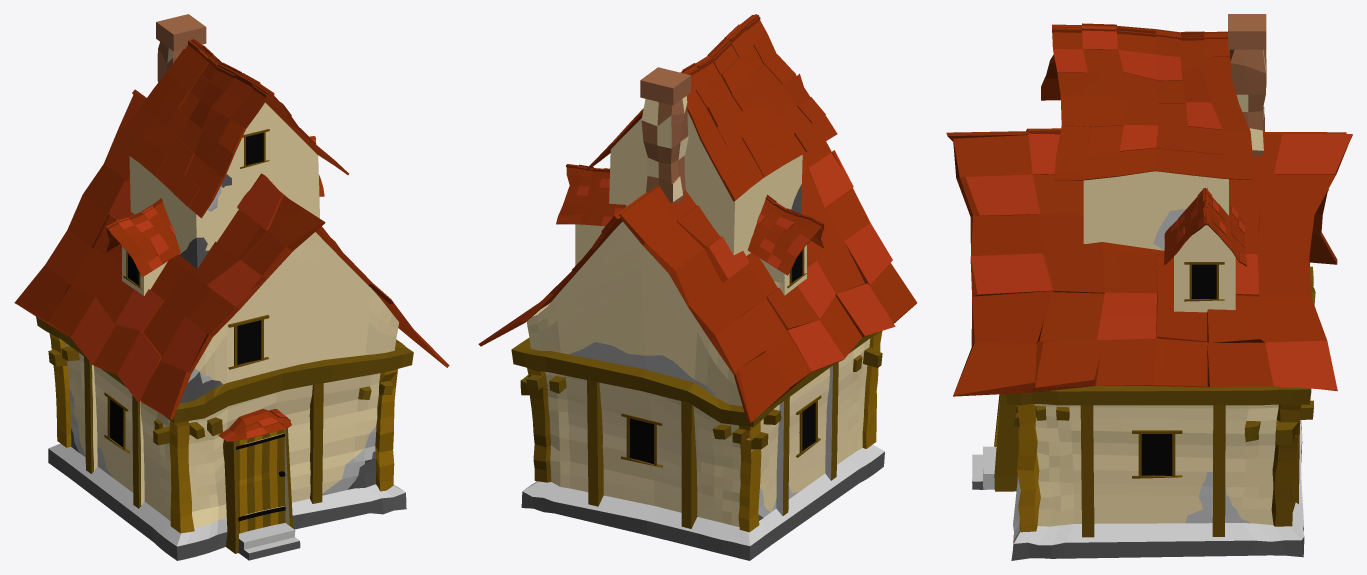
Rendered from red_cottage_bg.glb.
The picture shows the model from 3 angles, left to right: view 1: azimuth 30°, elevation 25°; view 2: azimuth 150°, elevation 25°; view 3: azimuth 270°, elevation 25°; orthographic projection. The views are drawn at different scales.
Visible parts, largest first — view 1: walls, roof, upper; view 2: roof, walls, upper; view 3: roof, walls, upper.
Part boxes in pixels (x1=…): walls: x1=36, y1=315, x2=413, y2=560; roof: x1=14, y1=14, x2=449, y2=419; upper: x1=122, y1=102, x2=398, y2=402; roof: x1=478, y1=14, x2=917, y2=424; walls: x1=511, y1=331, x2=884, y2=560; upper: x1=526, y1=112, x2=806, y2=405; roof: x1=946, y1=14, x2=1352, y2=396; walls: x1=972, y1=266, x2=1315, y2=560; upper: x1=1083, y1=171, x2=1315, y2=312.
Bounding box in the file's own units: 5.84 × 8.77 × 6.79.
1 material, 1 textured.
